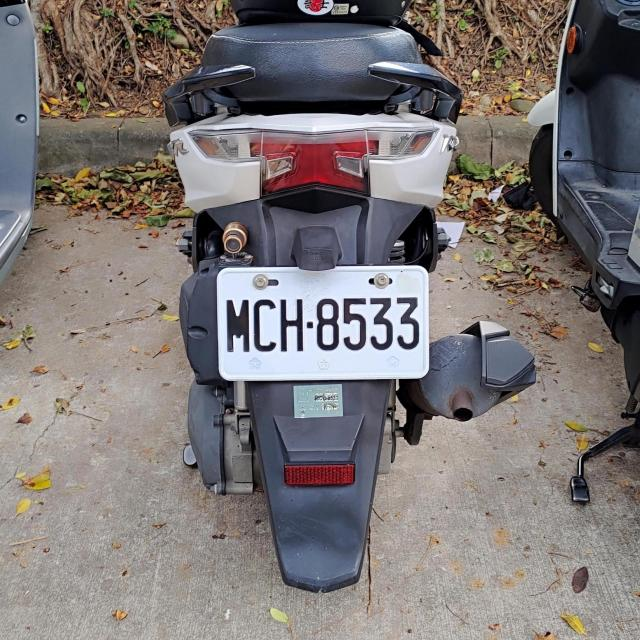W: (217, 264, 428, 381)
